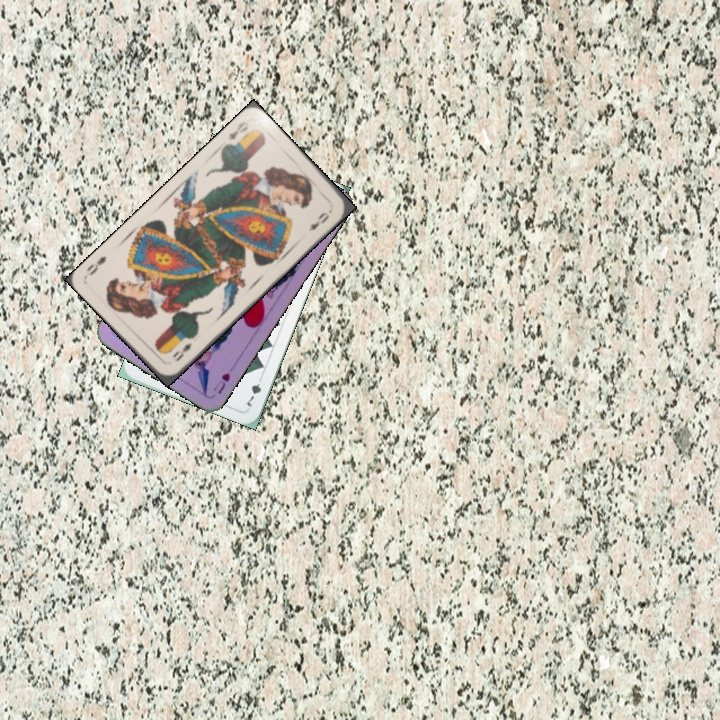EO: (223, 117, 252, 143), (168, 339, 195, 365)
G7: (242, 371, 266, 409)
HU: (209, 368, 233, 397)
